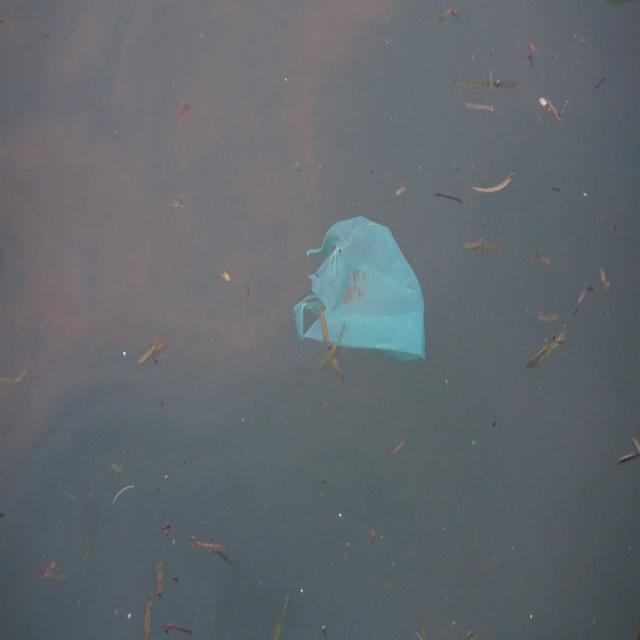Kantong Plastik: (295, 213, 430, 373)
